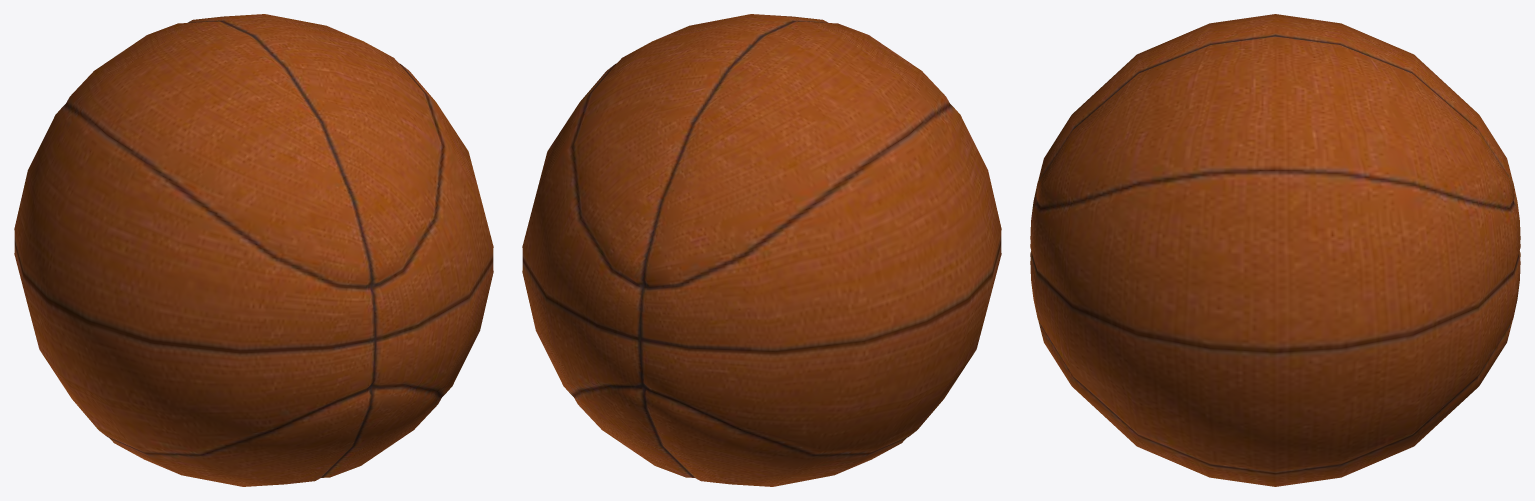
File: basketball.glb
3 views of the same model, side by side, from view 1: azimuth 30°, elevation 25°; view 2: azimuth 150°, elevation 25°; view 3: azimuth 270°, elevation 25° (orthographic).
Visible parts, largest first — view 1: basketball; view 2: basketball; view 3: basketball.
Part boxes in pixels (bbox=[...]): basketball: bbox=[14, 14, 493, 486]; basketball: bbox=[522, 14, 1001, 486]; basketball: bbox=[1030, 14, 1520, 486].
Size of the model in its own units: 0.2329 by 0.2328 by 0.2393.
Materials: 1 (1 with a texture image).
